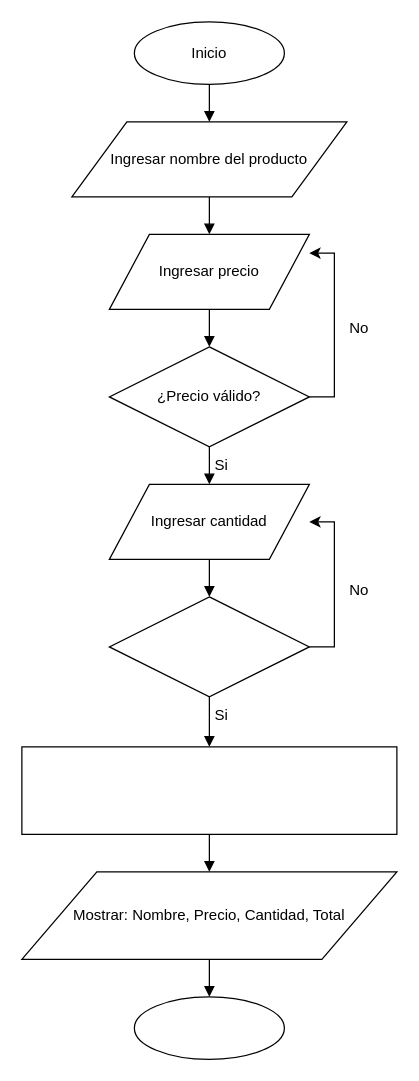
This 419x1081 diagram has some shape labels left out. The shapes that lost their labels are listed below. From the top down, each one's box as (x1, y1, x2, y2) in pixels, then its label:
(108, 596, 309, 697): ¿Cantidad válida?
(21, 746, 397, 834): Calcular costo total = precio × cantidad
(133, 996, 284, 1059): Fin
